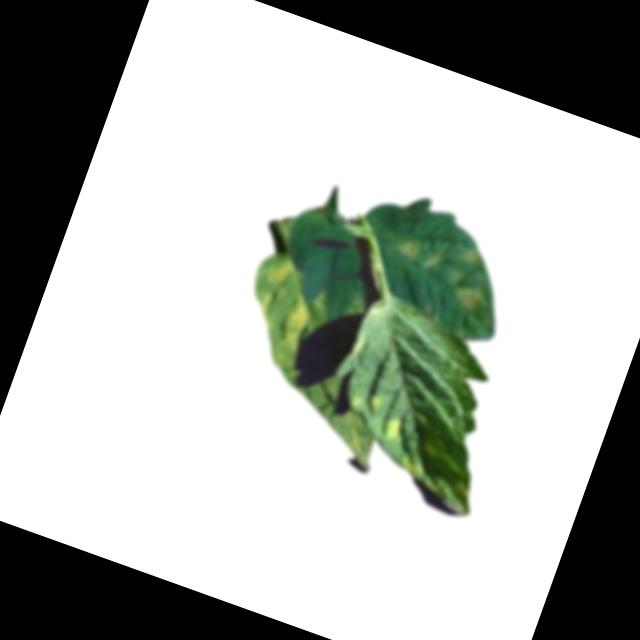Leaf_Mold: (269, 295, 313, 357), (390, 231, 436, 271), (259, 252, 296, 289), (448, 283, 488, 316), (451, 244, 485, 278), (377, 412, 408, 444)
